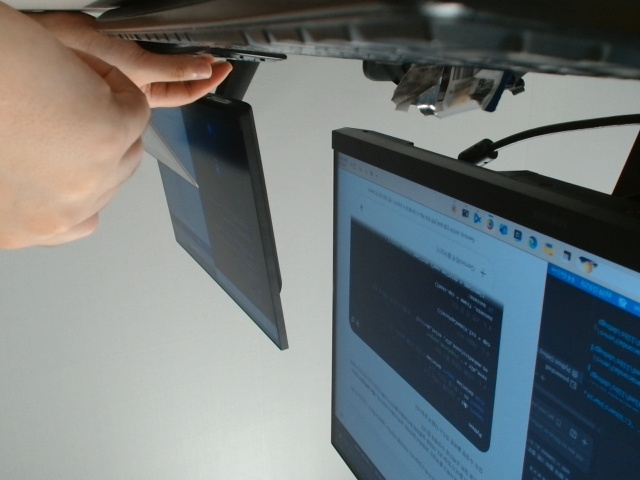hand: (1, 1, 305, 271)
